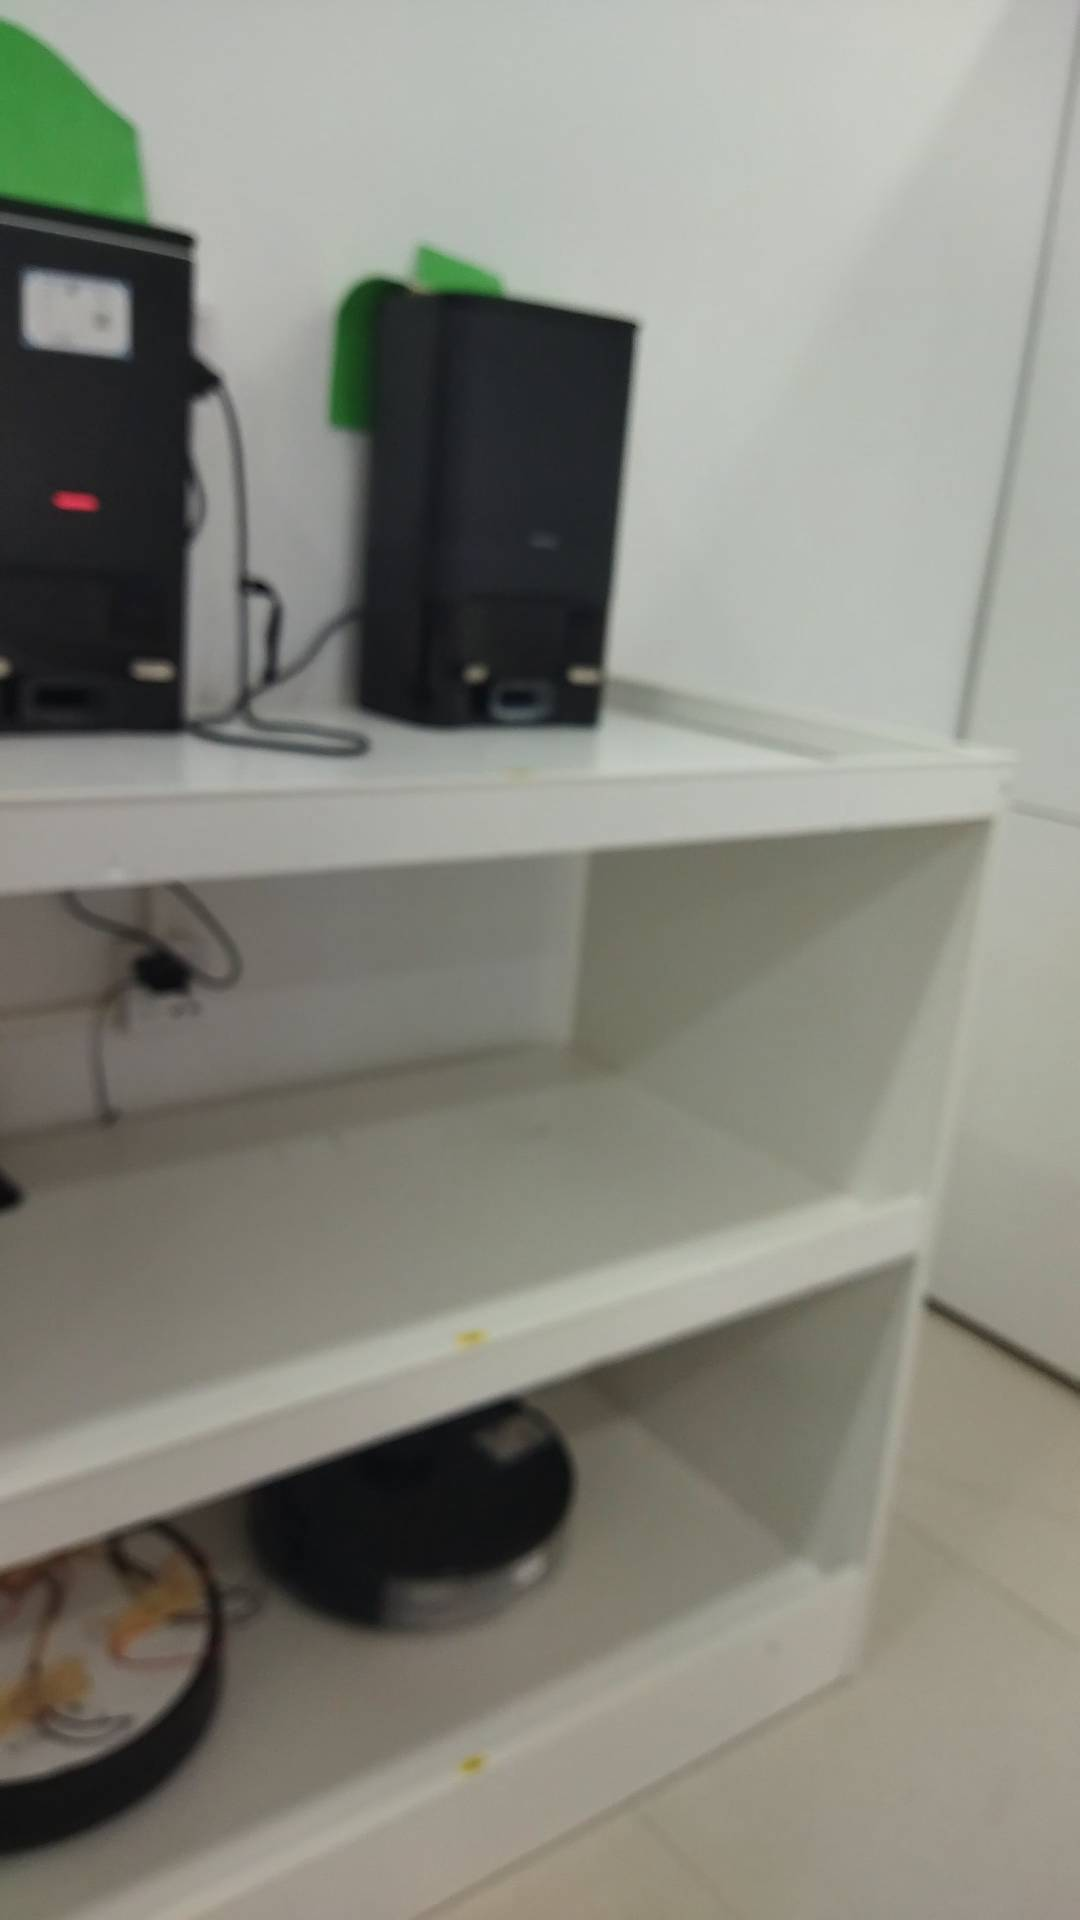dust collecting barrel: (357, 287, 641, 731), (1, 198, 198, 741)
